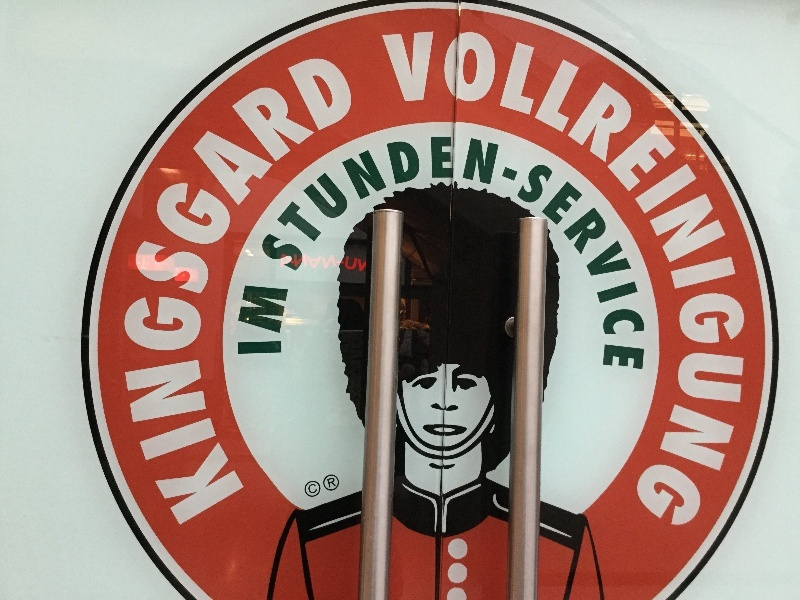text: (385, 30, 400, 533), (401, 30, 416, 533), (417, 30, 432, 533), (433, 30, 448, 533), (449, 30, 464, 533), (465, 30, 480, 533), (481, 30, 496, 533), (497, 30, 512, 533), (513, 30, 528, 533), (529, 30, 544, 533), (545, 30, 560, 533), (561, 30, 576, 533), (577, 30, 592, 533), (593, 30, 608, 533), (609, 30, 624, 533), (625, 30, 640, 533), (641, 30, 656, 533), (657, 30, 672, 533), (673, 30, 688, 533), (689, 30, 704, 533), (705, 30, 720, 533), (721, 30, 736, 533), (129, 51, 144, 538), (145, 51, 160, 538), (161, 51, 176, 538), (177, 51, 192, 538), (193, 51, 208, 538), (209, 51, 224, 538), (225, 51, 240, 538), (241, 51, 256, 538), (257, 51, 272, 538), (273, 51, 288, 538), (289, 51, 304, 538), (305, 51, 320, 538), (321, 51, 336, 538), (337, 51, 352, 538), (353, 51, 368, 538), (737, 30, 747, 533), (273, 133, 288, 373), (289, 133, 304, 373), (305, 133, 320, 373), (321, 133, 336, 373), (337, 133, 352, 373), (353, 133, 368, 373), (369, 133, 384, 373), (385, 133, 400, 373), (401, 133, 416, 373), (417, 133, 432, 373), (433, 133, 448, 373), (449, 133, 464, 373), (465, 133, 480, 373), (481, 133, 496, 373), (497, 133, 512, 373), (513, 133, 528, 373), (529, 133, 544, 373), (545, 133, 560, 373), (561, 133, 576, 373), (577, 133, 592, 373), (593, 133, 608, 373), (609, 133, 624, 373), (625, 133, 640, 373), (258, 133, 272, 373), (122, 51, 128, 538), (381, 30, 384, 533), (641, 133, 646, 373), (241, 281, 256, 358), (257, 281, 272, 358), (273, 281, 288, 358), (369, 51, 370, 538), (235, 281, 240, 358), (289, 251, 304, 274), (305, 251, 320, 274), (321, 251, 336, 274), (337, 251, 352, 274), (353, 251, 368, 274), (308, 483, 320, 496), (327, 476, 336, 490), (283, 251, 288, 274), (289, 281, 290, 358), (369, 251, 372, 274)
